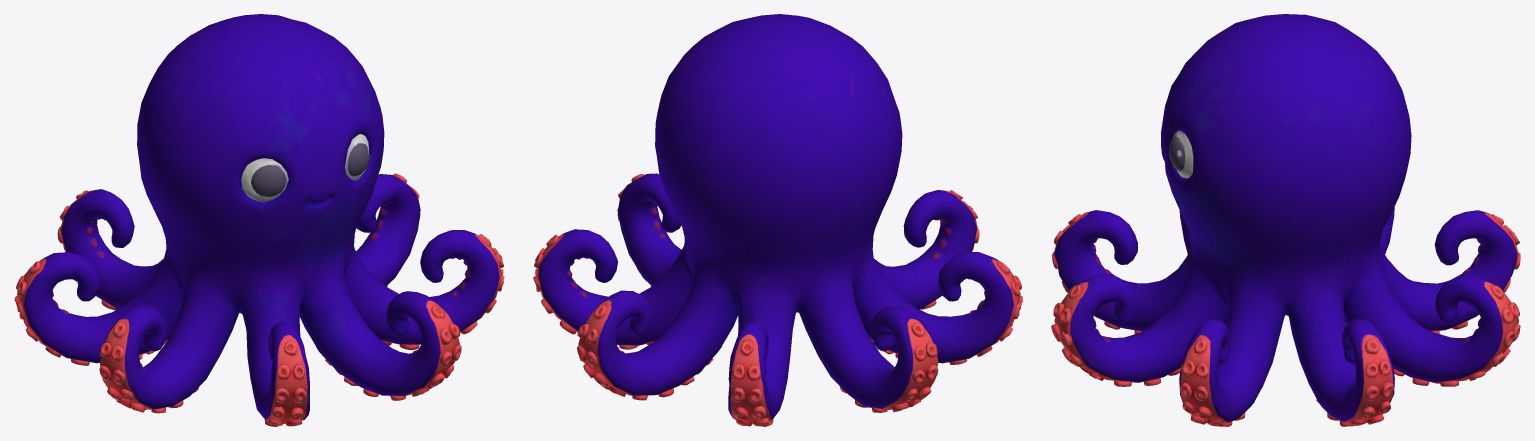
Rendered from octopus.glb.
3 views of the same model, side by side, from view 1: azimuth 30°, elevation 25°; view 2: azimuth 150°, elevation 25°; view 3: azimuth 270°, elevation 25° (orthographic).
Parts seen in each view (by area): view 1: geometry_0; view 2: geometry_0; view 3: geometry_0.
Part boxes in pixels (x1,y1,x2,y2): geometry_0: (14, 14, 504, 426); geometry_0: (533, 14, 1022, 426); geometry_0: (1051, 14, 1520, 426).
Size of the model in its own units: 0.9507 by 0.7358 by 0.9512.
1 material, 1 textured.
